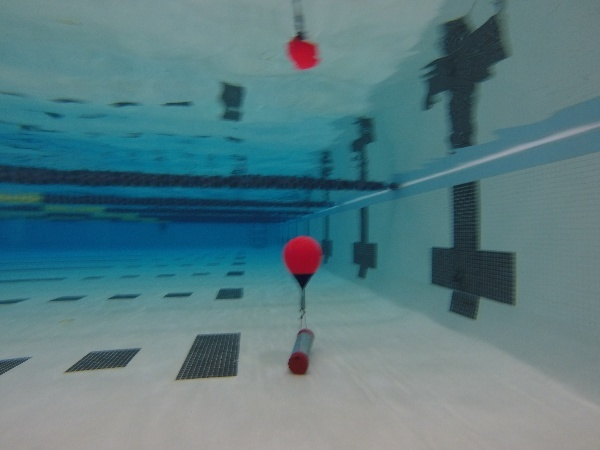buoy_red: (282, 234, 324, 291)
